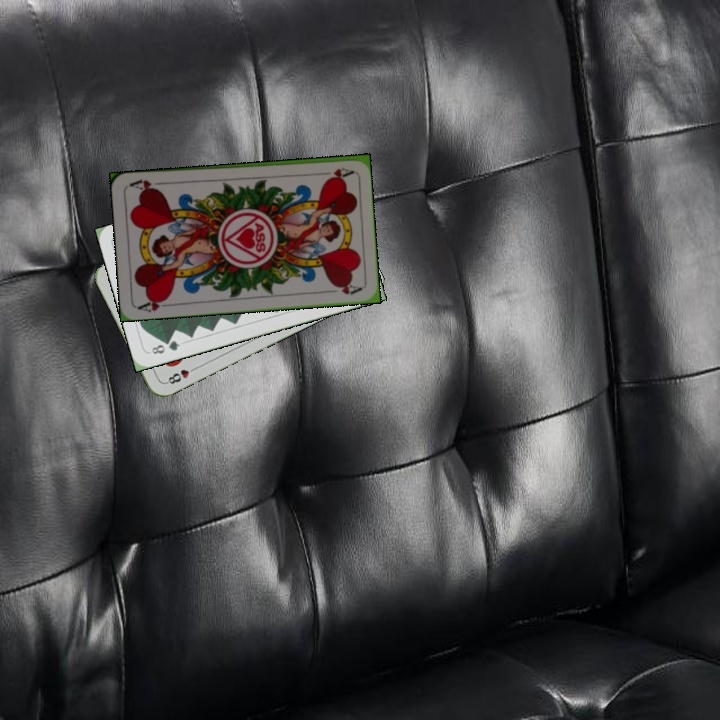G8: (147, 336, 183, 357)
H8: (162, 363, 200, 387)
HA: (134, 293, 175, 315), (314, 163, 354, 180)
